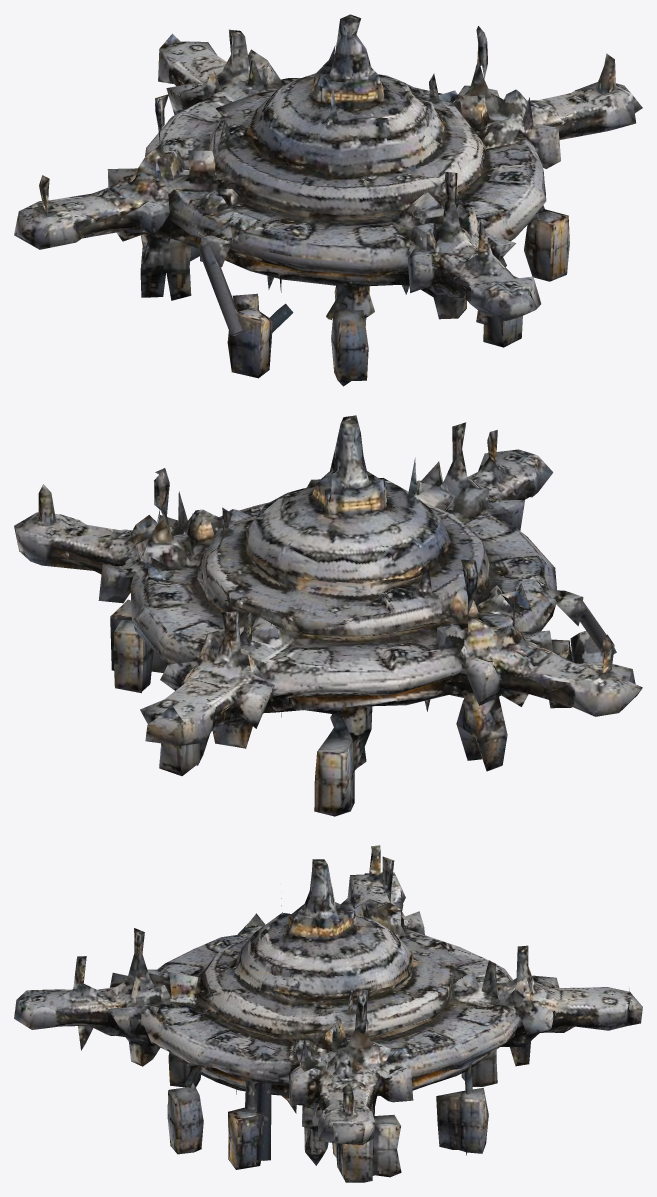
The model's file is st3d_omega_emporium_lod2.glb.
3 renders of one model, top to bottom at view 1: azimuth 30°, elevation 25°; view 2: azimuth 150°, elevation 25°; view 3: azimuth 270°, elevation 25°, orthographic. The views are drawn at different scales.
Parts seen in each view (by area): view 1: HOMELANCER_Station3D_Omega-WorldsEndEmporium_v1; view 2: HOMELANCER_Station3D_Omega-WorldsEndEmporium_v1; view 3: HOMELANCER_Station3D_Omega-WorldsEndEmporium_v1.
Part boxes in pixels (bbox=[...]): HOMELANCER_Station3D_Omega-WorldsEndEmporium_v1: bbox=[14, 14, 642, 386]; HOMELANCER_Station3D_Omega-WorldsEndEmporium_v1: bbox=[14, 415, 642, 816]; HOMELANCER_Station3D_Omega-WorldsEndEmporium_v1: bbox=[14, 845, 642, 1182].
Size of the model in its own units: 0.9555 by 0.5166 by 0.9697.
Materials: 1 (1 with a texture image).
